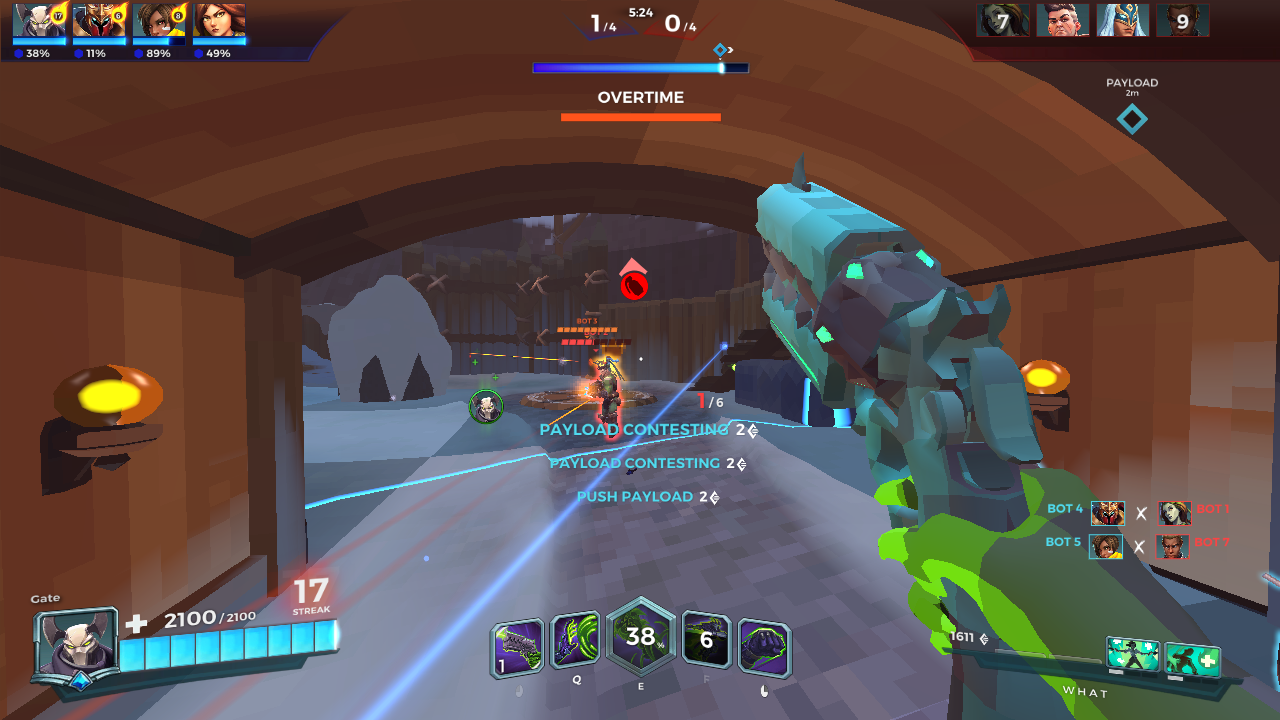model: (588, 362, 624, 438)
